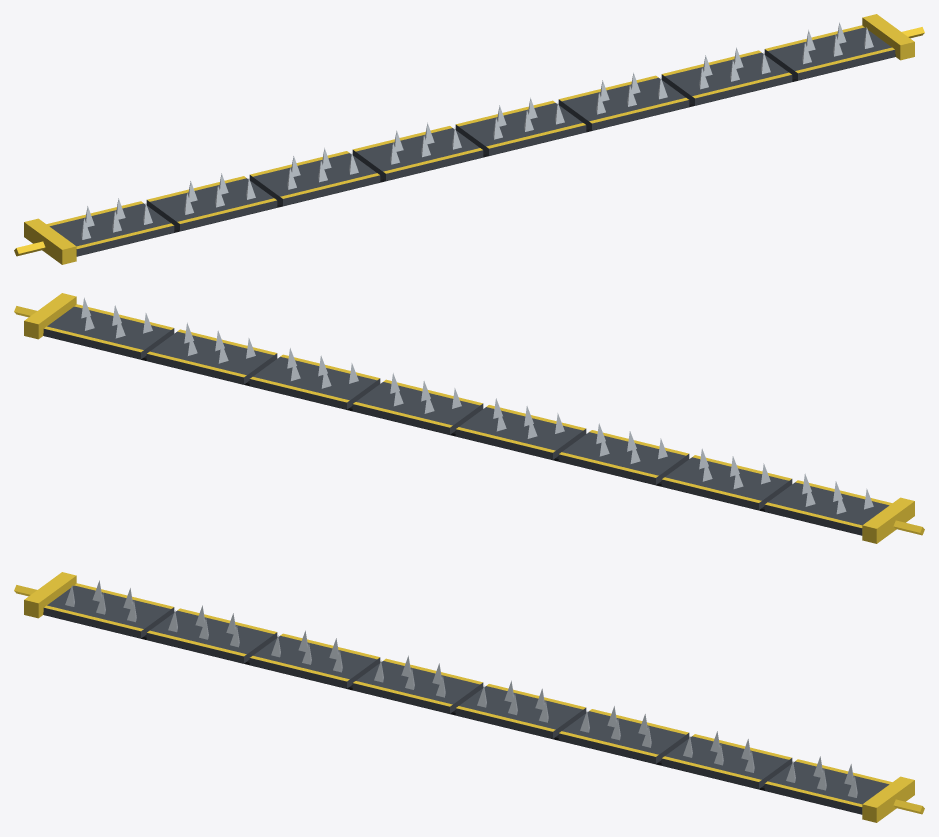
File: spike_strip.glb
The picture shows the model from 3 angles, top to bottom: view 1: azimuth 30°, elevation 25°; view 2: azimuth 150°, elevation 25°; view 3: azimuth 330°, elevation 25°; orthographic projection.
Visible parts, largest first — view 1: Body; view 2: Body; view 3: Body.
Part boxes in pixels (x1,y1,x2,y2): Body: (14,14,924,264); Body: (14,293,924,543); Body: (14,572,924,822).
Size of the model in its own units: 4.4 by 0.135 by 0.32.
